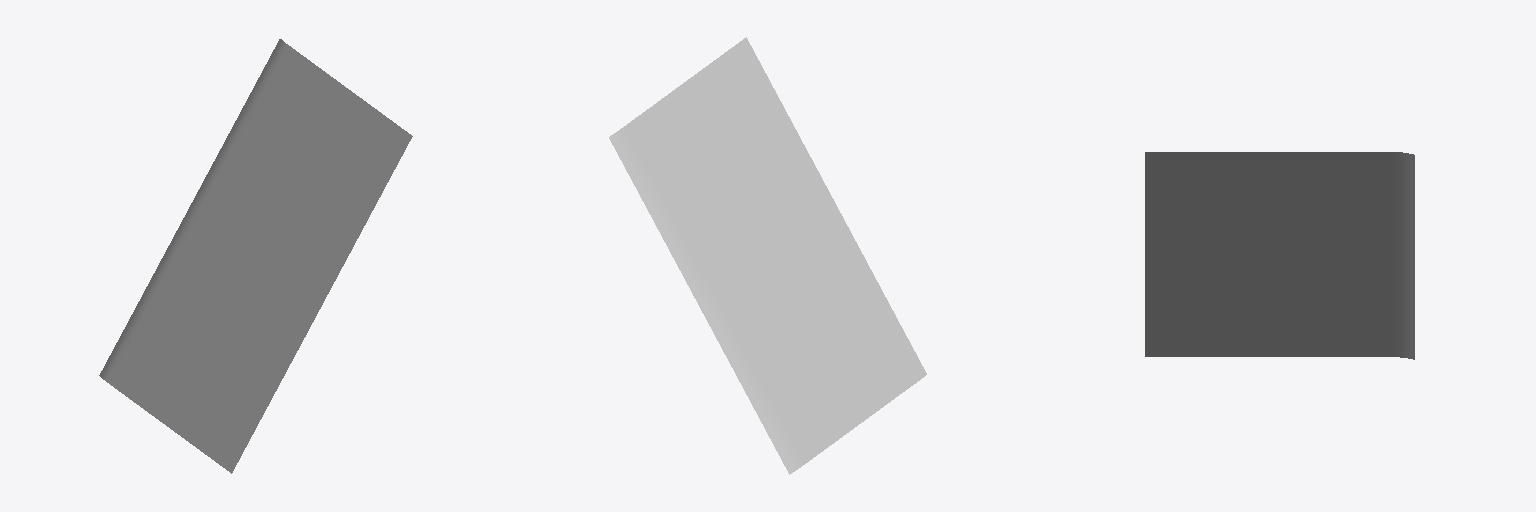
The model's file is Page_23-24_Plane_002.obj.
3 views of the same model, side by side, from view 1: azimuth 30°, elevation 25°; view 2: azimuth 150°, elevation 25°; view 3: azimuth 270°, elevation 25° (orthographic).
Parts seen in each view (by area): view 1: Page_23-24_Plane.002; view 2: Page_23-24_Plane.002; view 3: Page_23-24_Plane.002.
Part boxes in pixels (bbox=[...]): Page_23-24_Plane.002: bbox=[99, 39, 412, 473]; Page_23-24_Plane.002: bbox=[609, 37, 926, 474]; Page_23-24_Plane.002: bbox=[1145, 152, 1414, 359].
Bounding box in the file's own units: 2.24 × 3.44 × 2.86.